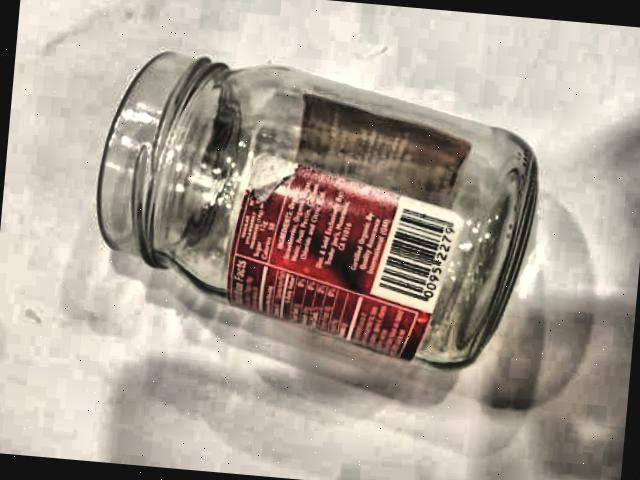Almennt: (71, 32, 560, 392)
